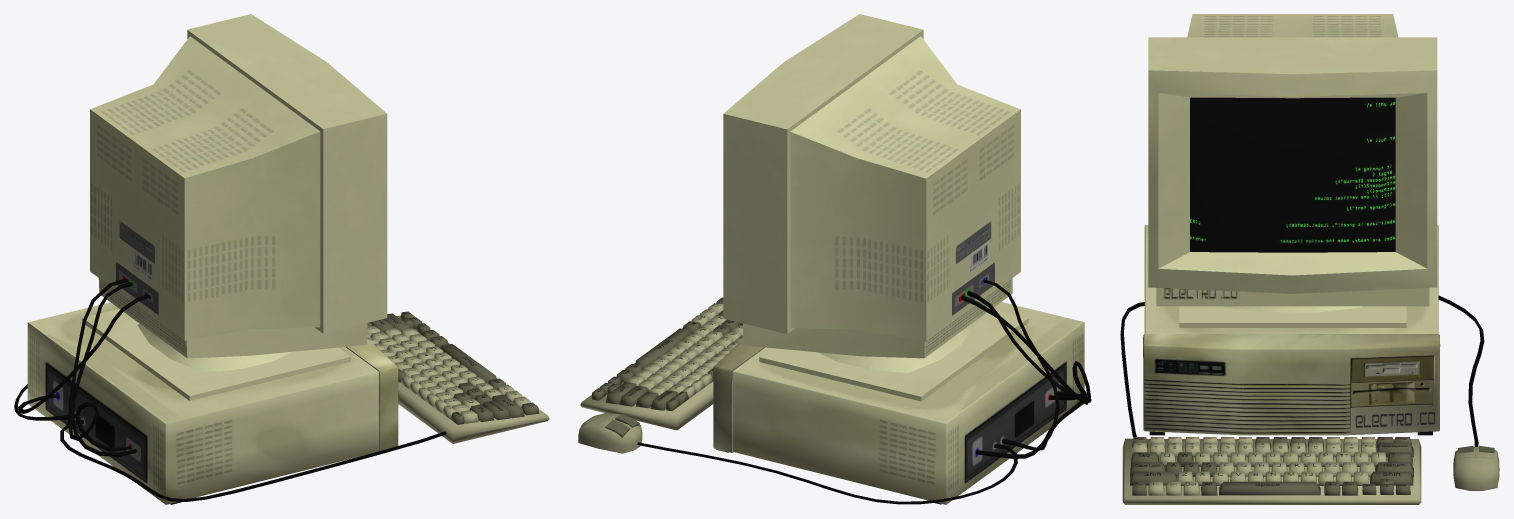
File: retro_pc.glb
3 renders of one model, left to right at view 1: azimuth 30°, elevation 25°; view 2: azimuth 150°, elevation 25°; view 3: azimuth 270°, elevation 25°, orthographic. The views are drawn at different scales.
Parts seen in each view (by area): view 1: Object_6, Object_11, Object_4, Object_12, Object_22; view 2: Object_6, Object_11, Object_4, Object_12, Object_22, Object_9; view 3: Object_6, Object_7, Object_22, Object_4, Object_11, Object_9, Object_12.
Boxes of the visible parts, left/top/right/bottom form: Object_6: left=82, top=14, right=387, bottom=400; Object_11: left=27, top=302, right=378, bottom=504; Object_4: left=367, top=311, right=549, bottom=443; Object_12: left=14, top=278, right=446, bottom=504; Object_22: left=346, top=339, right=398, bottom=451; Object_6: left=723, top=14, right=1028, bottom=401; Object_11: left=732, top=302, right=1084, bottom=504; Object_4: left=580, top=297, right=742, bottom=430; Object_12: left=637, top=279, right=1091, bottom=504; Object_22: left=713, top=339, right=764, bottom=453; Object_9: left=578, top=412, right=642, bottom=453; Object_6: left=1148, top=14, right=1437, bottom=327; Object_7: left=1190, top=97, right=1395, bottom=252; Object_22: left=1143, top=334, right=1440, bottom=435; Object_4: left=1122, top=437, right=1421, bottom=504; Object_11: left=1144, top=225, right=1438, bottom=333; Object_9: left=1453, top=445, right=1499, bottom=490; Object_12: left=1120, top=295, right=1484, bottom=446.
Bounding box in the file's own units: 0.7459 × 0.5672 × 0.5409.
7 materials, 6 textured.
